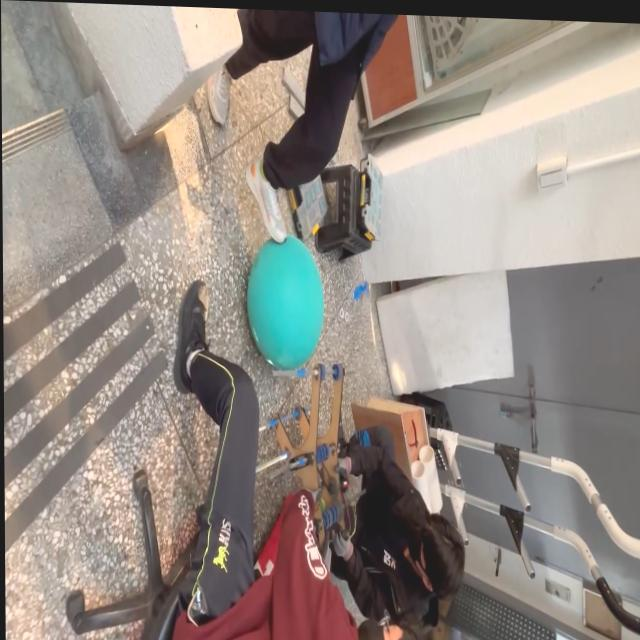ALGAE: (244, 230, 325, 373)
